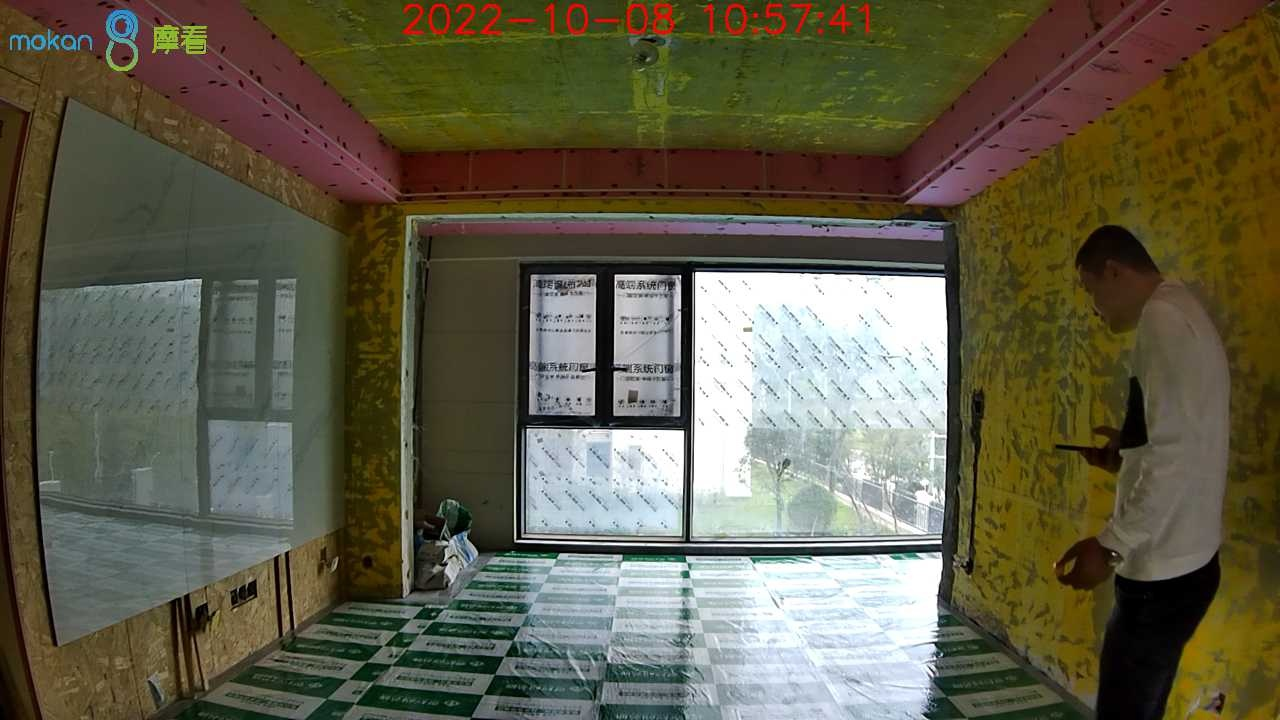people: (1057, 226, 1235, 719)
window: (512, 256, 951, 545)
